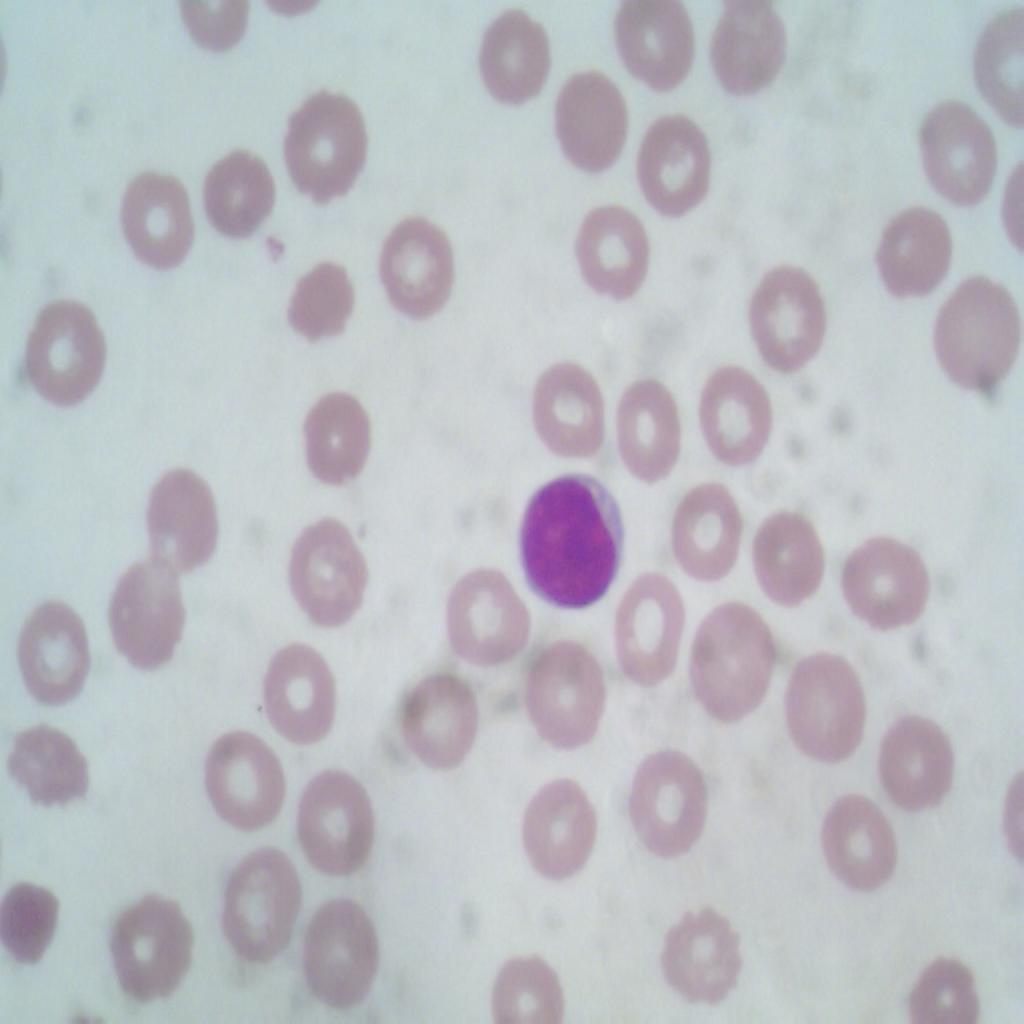Eritrosit: (678, 592, 788, 718), (18, 287, 122, 414), (924, 268, 1023, 397), (370, 202, 462, 330), (286, 757, 382, 878), (280, 84, 378, 201), (246, 634, 346, 748), (911, 92, 1003, 214), (510, 634, 610, 744), (109, 159, 201, 278), (634, 108, 720, 234), (476, 8, 569, 124), (520, 358, 618, 468), (3, 714, 106, 818), (626, 744, 719, 858), (303, 886, 383, 1016), (218, 842, 300, 968), (436, 545, 528, 657), (108, 882, 196, 999), (843, 536, 938, 644), (744, 261, 838, 370), (610, 574, 698, 688), (104, 562, 198, 668), (282, 514, 374, 621), (194, 134, 278, 251), (195, 729, 288, 834), (789, 645, 871, 764), (548, 58, 634, 170), (396, 657, 482, 767), (571, 205, 654, 317), (808, 796, 906, 890), (610, 385, 694, 494), (691, 364, 773, 474), (699, 0, 791, 98), (874, 197, 960, 299), (884, 708, 962, 820), (750, 498, 832, 604), (658, 898, 742, 1001), (14, 598, 92, 708), (146, 462, 228, 565), (615, 0, 704, 94), (278, 252, 359, 354), (664, 486, 746, 584), (486, 939, 578, 1023), (295, 388, 373, 486), (528, 774, 599, 879), (0, 872, 69, 968), (969, 14, 1023, 118), (912, 948, 978, 1023)
Limfoblast: (516, 474, 626, 616)
Platelet: (261, 224, 286, 269)
